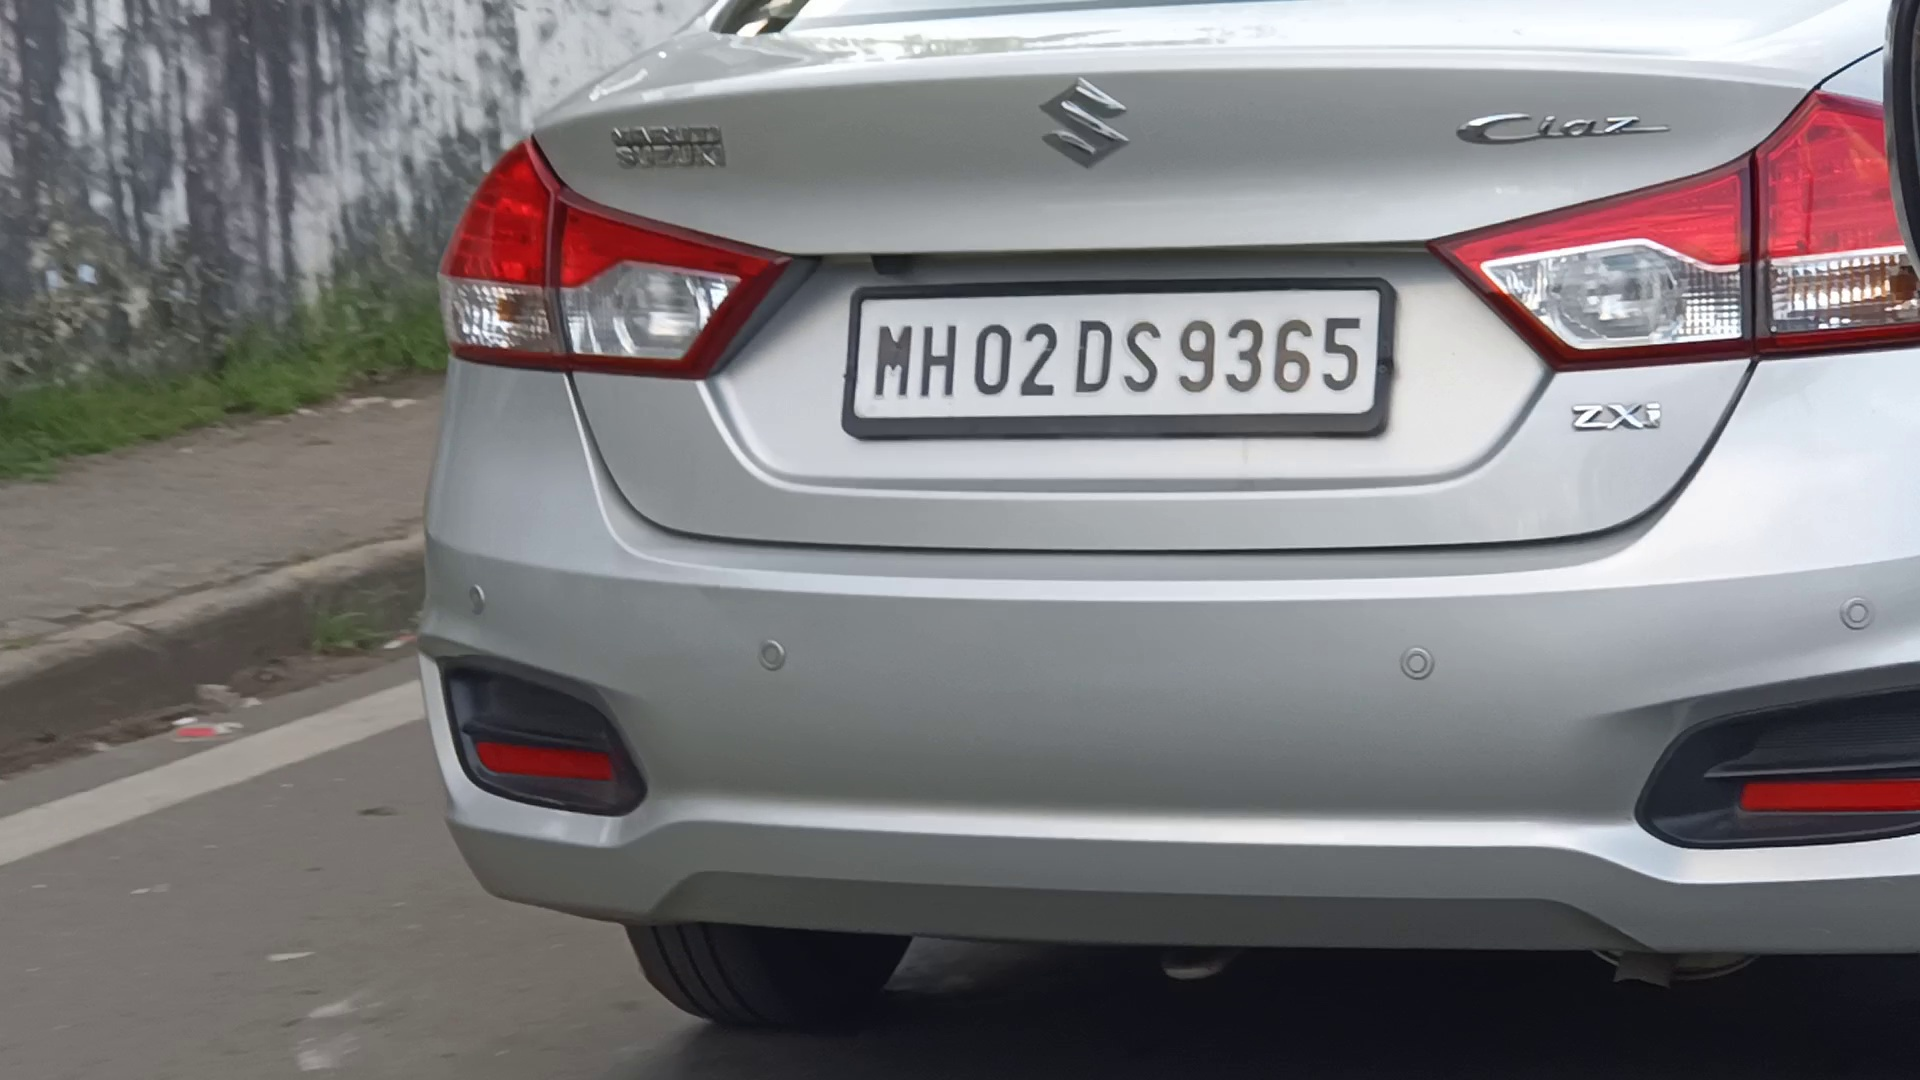MH02DS9365: (852, 285, 1378, 420)
